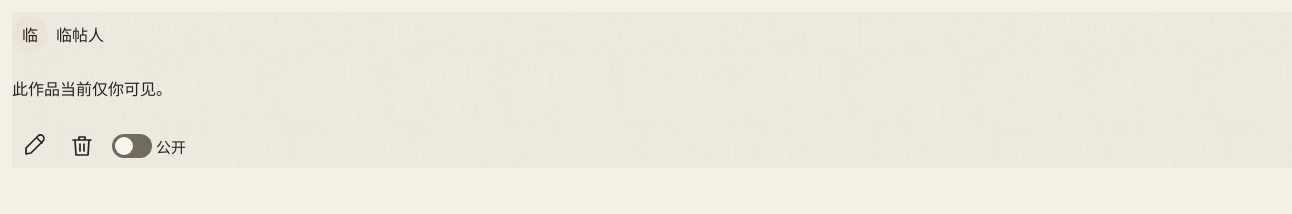
Scenario: Work detail follows whether others can see the author's work › reads the work again after 公开 and offers the interactions only once others can see it
What coordinates should you click on to do the following:
click the switch labelled "公开"
I would click on:
 (149, 146)
Its box is x1=108 y1=124 x2=190 y2=168.
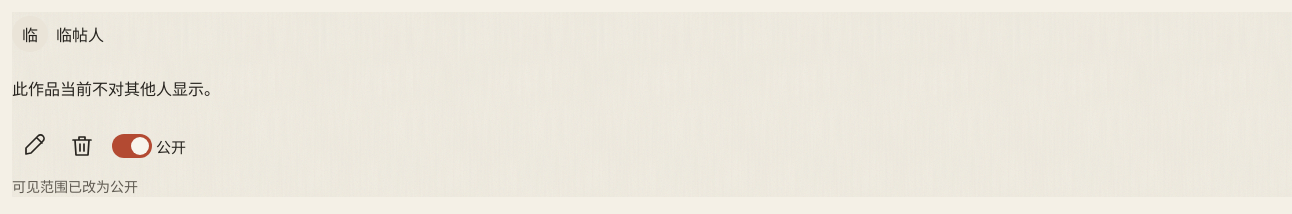
Expected: the message "可见范围已改为公开" is shown, x1=12 y1=178 x2=138 y2=195
Expected: the text "此作品当前不对其他人显示。" is shown, x1=12 y1=76 x2=220 y2=100
